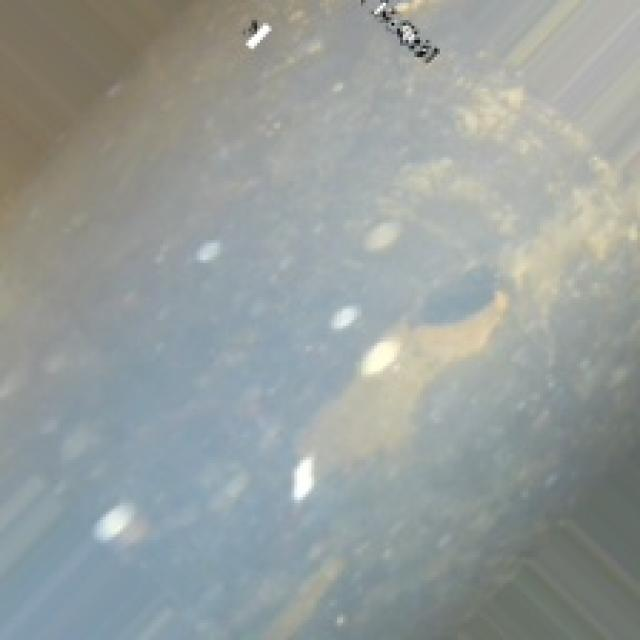pipe_surface_damage: (326, 243, 526, 480)
